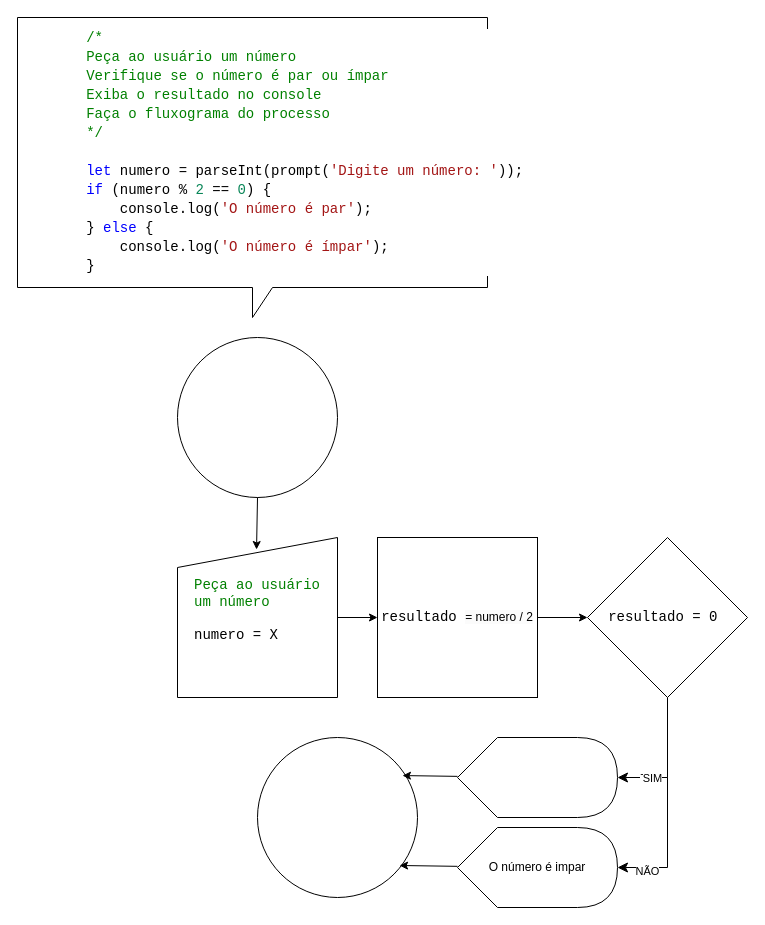
Some shapes in this 765 by 925 pixel diagram are drawn without their labels. The centre of each missing label's shape, as x and y in pixels:
"Fim" goes at (337,817).
"Início" goes at (257,417).
"O número é par" goes at (537,777).
